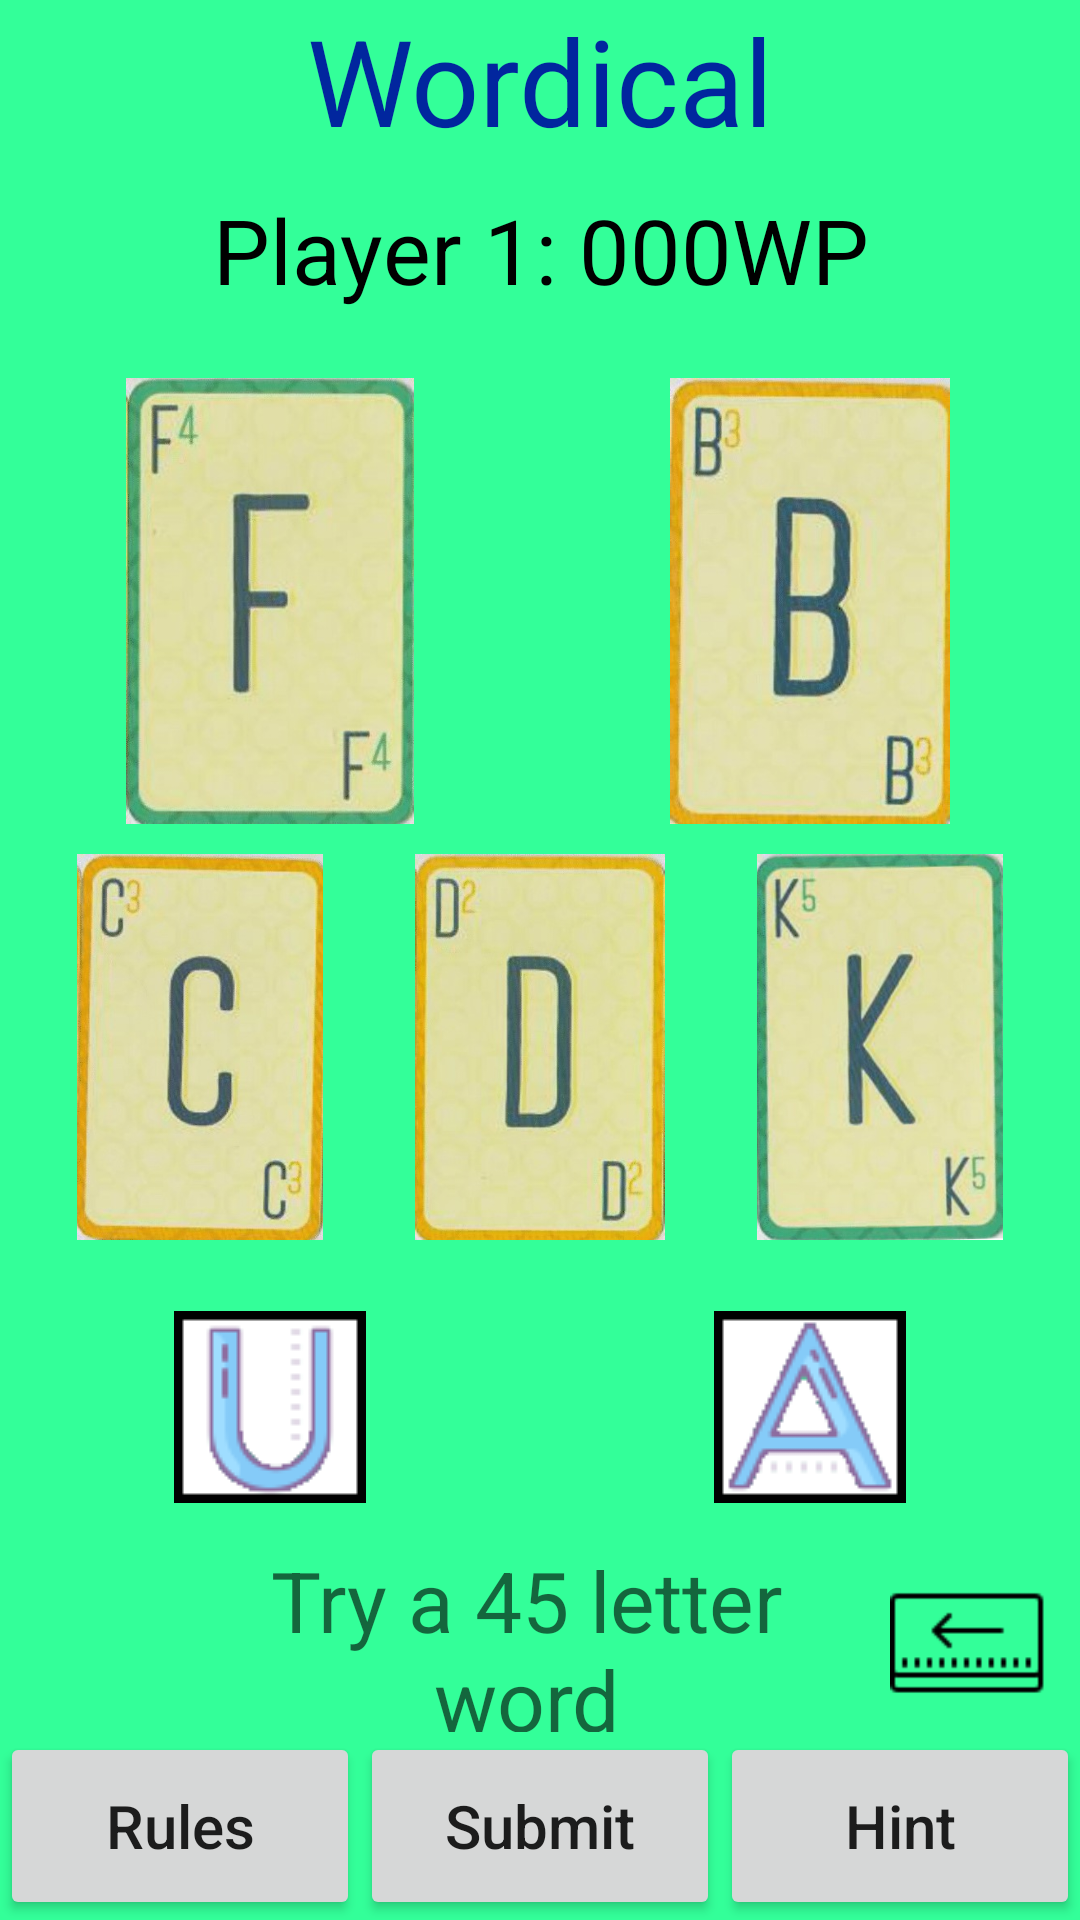

Screen size 1080 × 1920. Icon name, then its center in pixels as point (x, y):
backspace: point (967, 1643)
